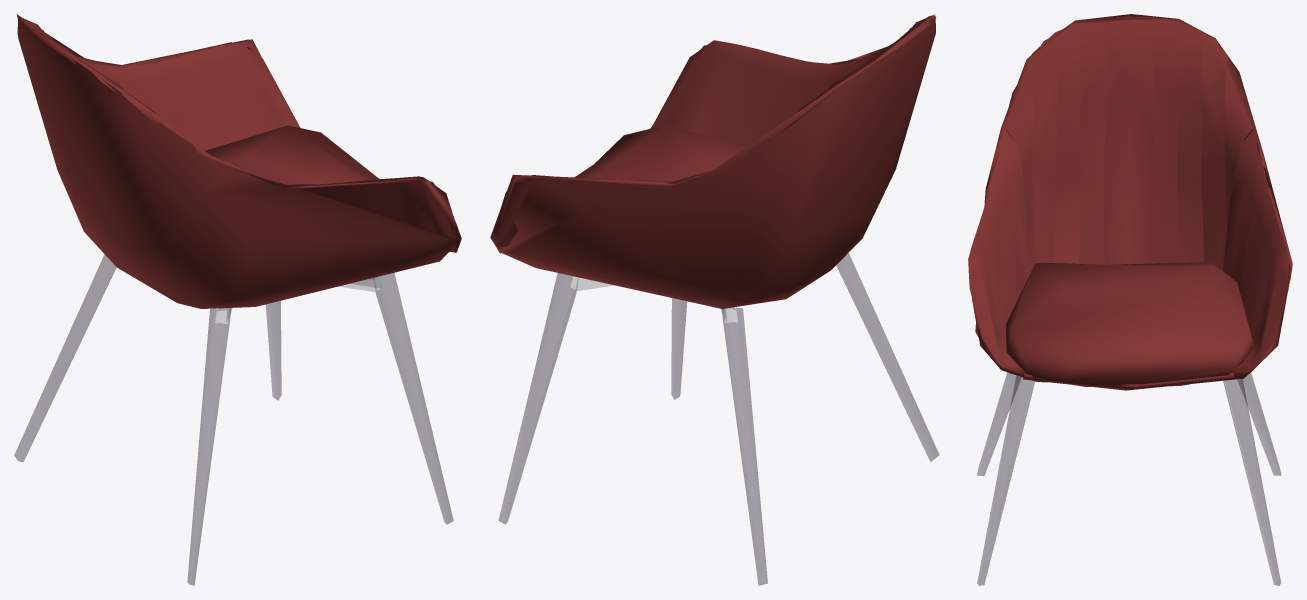
File: Chair.glb
3 renders of one model, left to right at view 1: azimuth 30°, elevation 25°; view 2: azimuth 150°, elevation 25°; view 3: azimuth 270°, elevation 25°, orthographic. The views are drawn at different scales.
Parts seen in each view (by area): view 1: chair_wood; view 2: chair_wood; view 3: chair_wood.
Part boxes in pixels (left/top/right/bottom): chair_wood: left=14, top=14, right=461, bottom=585; chair_wood: left=490, top=14, right=939, bottom=585; chair_wood: left=968, top=14, right=1292, bottom=585.
Size of the model in its own units: 2.08 by 2.8 by 1.89.
